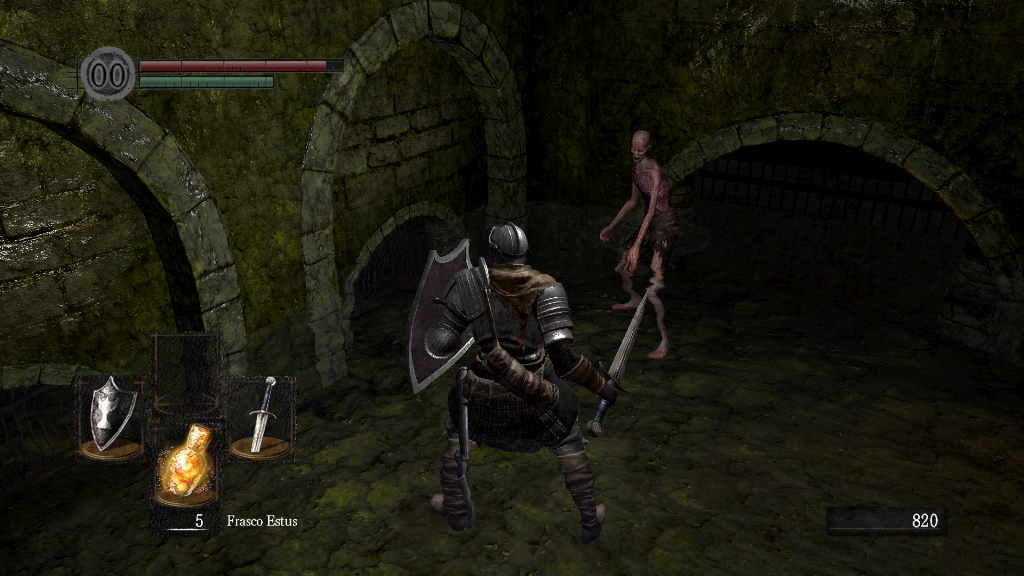health: (138, 58, 343, 71)
hollow: (599, 130, 678, 361)
humanity: (80, 45, 136, 102)
player: (403, 219, 650, 544)
souls: (825, 506, 945, 536)
stamina: (138, 74, 274, 88)
